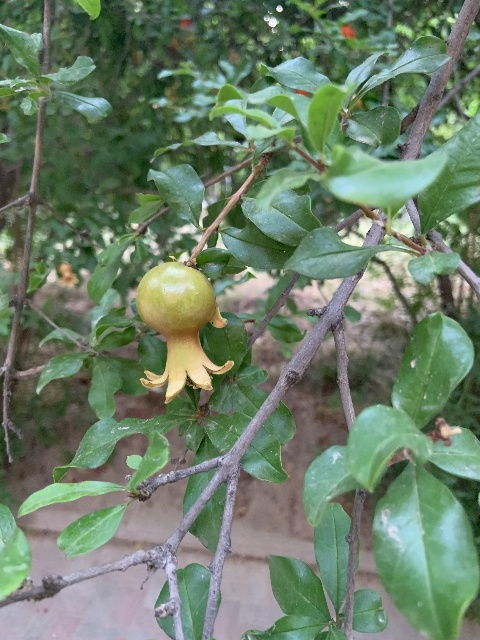early-fruit: (55, 262, 80, 288)
mid-growth: (134, 262, 232, 402)
